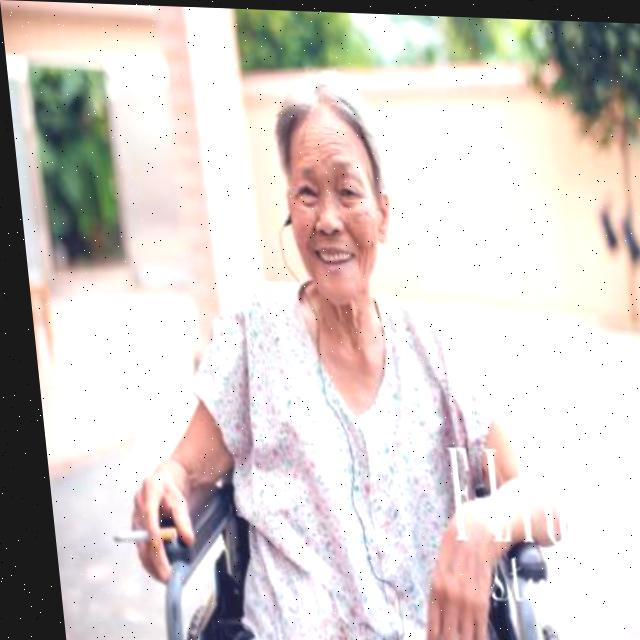cigarette: (101, 525, 168, 543)
